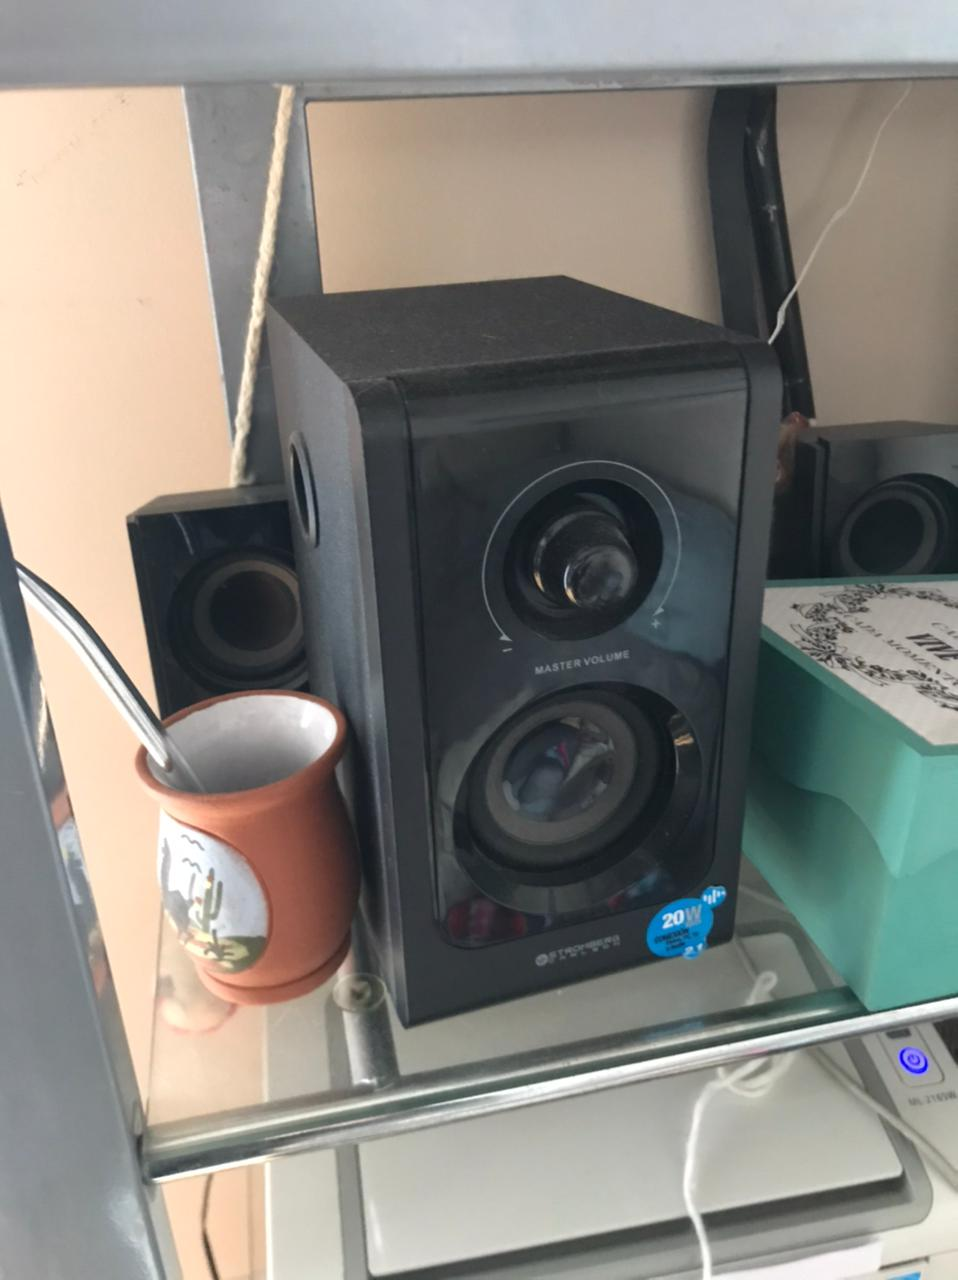mate: (1, 563, 383, 1007)
